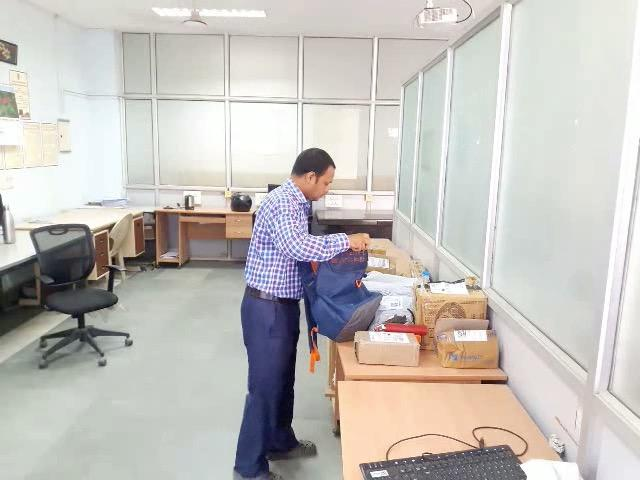shoplifting: (202, 193, 467, 350)
